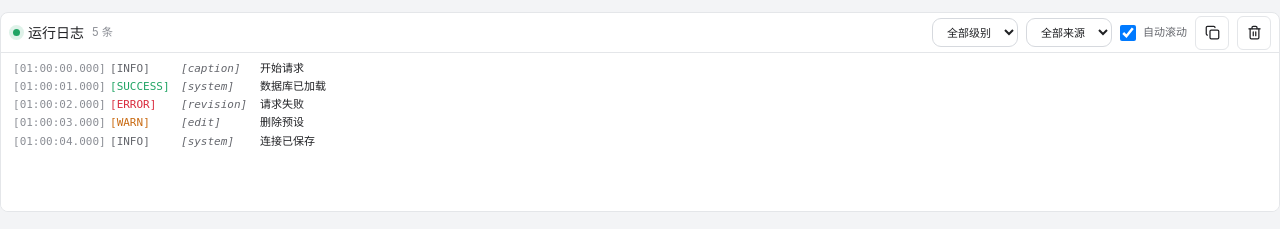
LogPanel › combines both filters
This screenshot has width=1280, height=229.
Step 1. Select "信息" in the dropdown named "日志级别" → (975, 32), box [932, 18, 1018, 47]
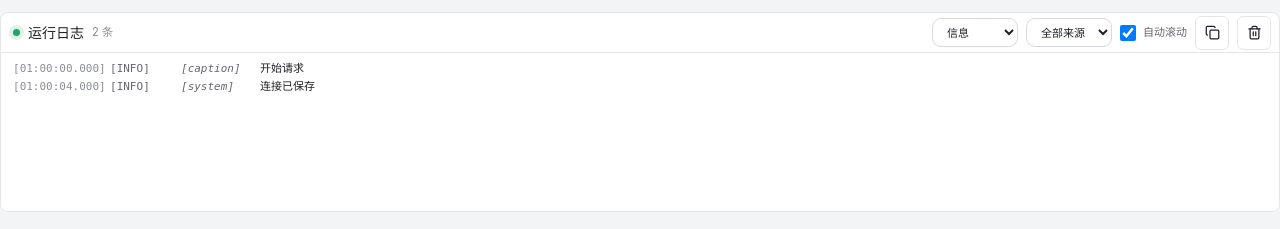
Step 2. Select "系统" in the dropdown named "日志来源" → (1069, 32), box [1026, 18, 1112, 47]
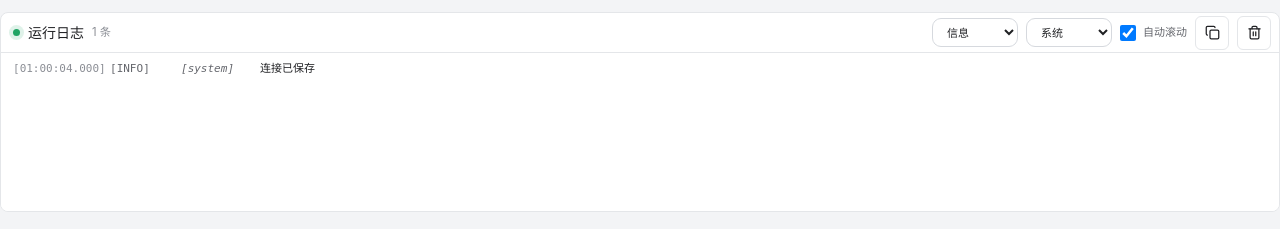
Expected: the text "连接已保存" is shown, [260, 62, 315, 75]
Now the text "开始请求" is gone
Now the text "1 条" is shown, box [92, 24, 111, 41]
